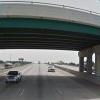Bridge: (2, 1, 95, 58)
